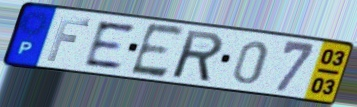0: (230, 39, 274, 85)
7: (275, 38, 317, 94)
E: (127, 22, 188, 81), (82, 20, 138, 71)
F: (44, 15, 94, 64)
R: (171, 28, 226, 84)
